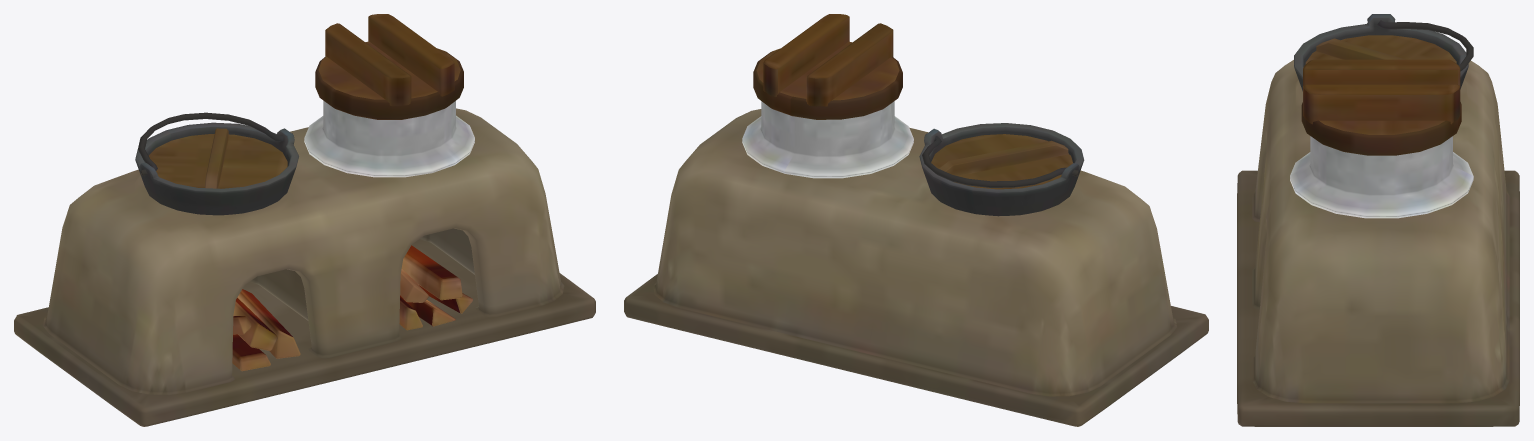
The picture shows the model from 3 angles, left to right: view 1: azimuth 30°, elevation 25°; view 2: azimuth 150°, elevation 25°; view 3: azimuth 270°, elevation 25°; orthographic projection. The views are drawn at different scales.
Bounding box in the file's own units: 19.52 × 10.57 × 9.72.
1 material, 1 textured.
